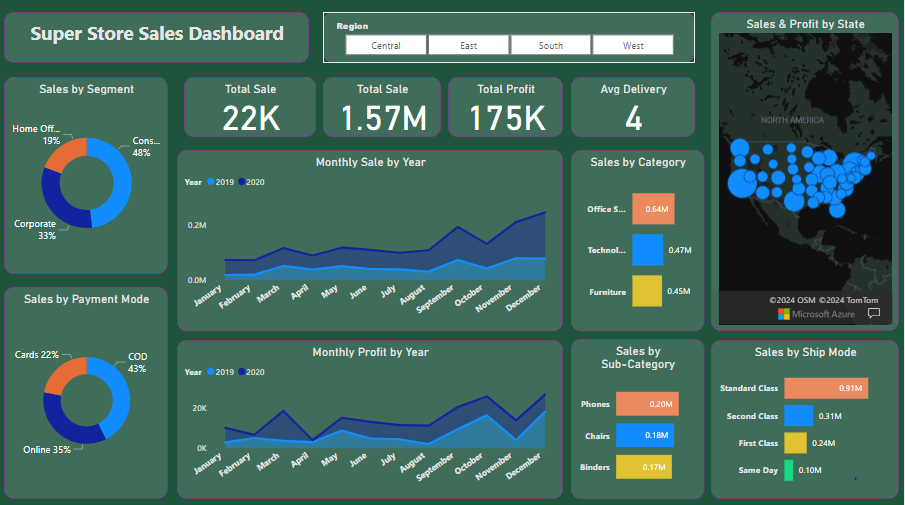

This screenshot's page, from the dashboard's own definition file:
{"tool":"powerbi","page":{"name":"Overview","canvas":[1280,720],"ordinal":0},"visuals":[{"type":"clusteredBarChart","title":"Sales by Category","fields":{"Category":["SuperStore_Sales_Dataset.Category"],"Y":["Sum(SuperStore_Sales_Dataset.Sales)"]},"box":[809.3,215.4,188.5,256.5],"z":0},{"type":"clusteredBarChart","title":"Sales by Sub-Category","fields":{"Y":["Sum(SuperStore_Sales_Dataset.Sales)"],"Category":["SuperStore_Sales_Dataset.Sub-Category"]},"box":[809.3,483.3,188.5,226.8],"z":1000},{"type":"clusteredBarChart","title":"Sales by Ship Mode","fields":{"Y":["Sum(SuperStore_Sales_Dataset.Sales)"],"Category":["SuperStore_Sales_Dataset.Ship Mode"]},"box":[1007.7,484.7,266.5,225.4],"z":2000},{"type":"stackedAreaChart","title":"Monthly Sale by Year","fields":{"Category":["SuperStore_Sales_Dataset.Order Date.Variation.Date Hierarchy.Month","SuperStore_Sales_Dataset.Order Date.Variation.Date Hierarchy.Day"],"Y":["Sum(SuperStore_Sales_Dataset.Sales)"],"Series":["SuperStore_Sales_Dataset.Order Date.Variation.Date Hierarchy.Year"]},"box":[250.9,215.4,547.1,256.5],"z":3000},{"type":"stackedAreaChart","title":"Monthly Profit by Year","fields":{"Category":["SuperStore_Sales_Dataset.Order Date.Variation.Date Hierarchy.Month","SuperStore_Sales_Dataset.Order Date.Variation.Date Hierarchy.Day"],"Series":["SuperStore_Sales_Dataset.Order Date.Variation.Date Hierarchy.Year"],"Y":["Sum(SuperStore_Sales_Dataset.Profit)"]},"box":[250.9,484.7,547.1,225.4],"z":4000},{"type":"azureMap","title":"Sales & Profit by State","fields":{"Category":["SuperStore_Sales_Dataset.State"],"Size":["Sum(SuperStore_Sales_Dataset.Sales)"]},"box":[1007.7,19.8,266.5,452.1],"z":5000},{"type":"donutChart","title":"Sales by Segment","fields":{"Category":["SuperStore_Sales_Dataset.Segment"],"Y":["Sum(SuperStore_Sales_Dataset.Sales)"]},"box":[5.7,112,232.4,279.2],"z":6000},{"type":"donutChart","title":"Sales by Payment Mode","fields":{"Y":["Sum(SuperStore_Sales_Dataset.Sales)"],"Category":["SuperStore_Sales_Dataset.Payment Mode"]},"box":[5.7,409.6,232.4,300.5],"z":7000},{"type":"slicer","fields":{"Values":["SuperStore_Sales_Dataset.Region"]},"box":[457.8,19.8,527.2,72.3],"z":8000},{"type":"textbox","box":[5.7,19.8,432.3,72.3],"z":9000},{"type":"card","title":"Total Sale","fields":{"Values":["Sum(SuperStore_Sales_Dataset.Sales)"]},"box":[457.8,112,167.2,85],"z":10000},{"type":"card","title":"Total Profit","fields":{"Values":["Sum(SuperStore_Sales_Dataset.Profit)"]},"box":[635,112,163,85],"z":11000},{"type":"card","title":"Total Sale","fields":{"Values":["Sum(SuperStore_Sales_Dataset.Quantity)"]},"box":[260.8,112,187.1,85],"z":12000},{"type":"card","title":"Avg Delivery","fields":{"Values":["Avg(SuperStore_Sales_Dataset.Avg_Delivery)"]},"box":[809.3,112,175.7,85],"z":13000}]}

Visuals, with their boxes in screenshot pixels (x1, y1, x2, y2), scaled from the page's 1280x720 canvas onto the 905x505 screenshot:
"Sales by Category" clusteredBarChart: (572, 151, 705, 331)
"Sales by Sub-Category" clusteredBarChart: (572, 339, 705, 498)
"Sales by Ship Mode" clusteredBarChart: (712, 340, 901, 498)
"Monthly Sale by Year" stackedAreaChart: (177, 151, 564, 331)
"Monthly Profit by Year" stackedAreaChart: (177, 340, 564, 498)
"Sales & Profit by State" azureMap: (712, 14, 901, 331)
"Sales by Segment" donutChart: (4, 79, 168, 274)
"Sales by Payment Mode" donutChart: (4, 287, 168, 498)
slicer - SuperStore_Sales_Dataset.Region: (324, 14, 696, 65)
textbox: (4, 14, 310, 65)
"Total Sale" card: (324, 79, 442, 138)
"Total Profit" card: (449, 79, 564, 138)
"Total Sale" card: (184, 79, 317, 138)
"Avg Delivery" card: (572, 79, 696, 138)
